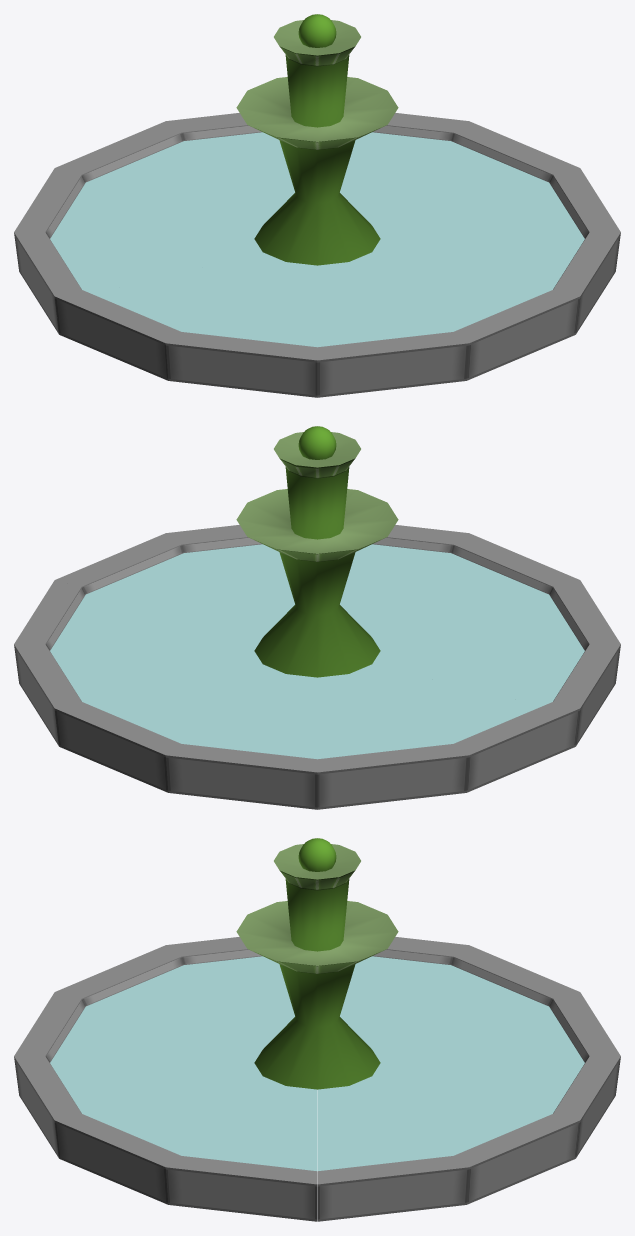
File: funsui_2.fbx
The picture shows the model from 3 angles, top to bottom: view 1: azimuth 30°, elevation 25°; view 2: azimuth 150°, elevation 25°; view 3: azimuth 270°, elevation 25°; orthographic projection.
Visible parts, largest first — view 1: polySurface42, polySurface44, polySurface43, polySurface36, polySurface45; view 2: polySurface43, polySurface45, polySurface42, polySurface36, polySurface44; view 3: polySurface44, polySurface45, polySurface42, polySurface43, polySurface36.
Boxes of the visible parts, x1,y1,x2,y2 form: polySurface42: (54,252,469,397); polySurface44: (349,168,620,380); polySurface43: (14,121,277,333); polySurface36: (236,14,398,265); polySurface45: (166,113,579,225); polySurface43: (165,664,580,809); polySurface45: (14,580,285,792); polySurface42: (357,533,620,745); polySurface36: (236,426,398,677); polySurface44: (55,525,468,637); polySurface44: (14,1056,317,1221); polySurface45: (317,1056,620,1221); polySurface42: (14,937,294,1062); polySurface43: (340,937,620,1062); polySurface36: (236,838,398,1089).
Bounding box in the file's own units: 21.25 × 9.88 × 21.25.
2 materials, 2 textured.
